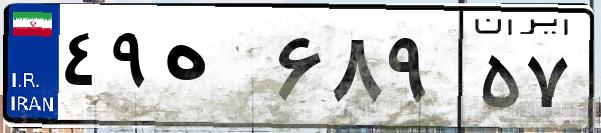4: (57, 26, 110, 100)
5: (475, 38, 525, 113)
6: (270, 28, 330, 110)
7: (525, 38, 570, 115)
8: (330, 28, 385, 110)
9: (385, 28, 445, 110), (110, 28, 158, 98)
ه: (158, 20, 270, 120)
